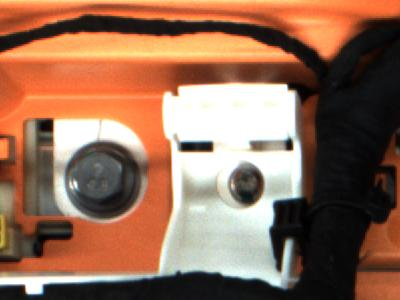nut_b: (63, 143, 141, 216)
screw_m: (222, 162, 269, 212)
